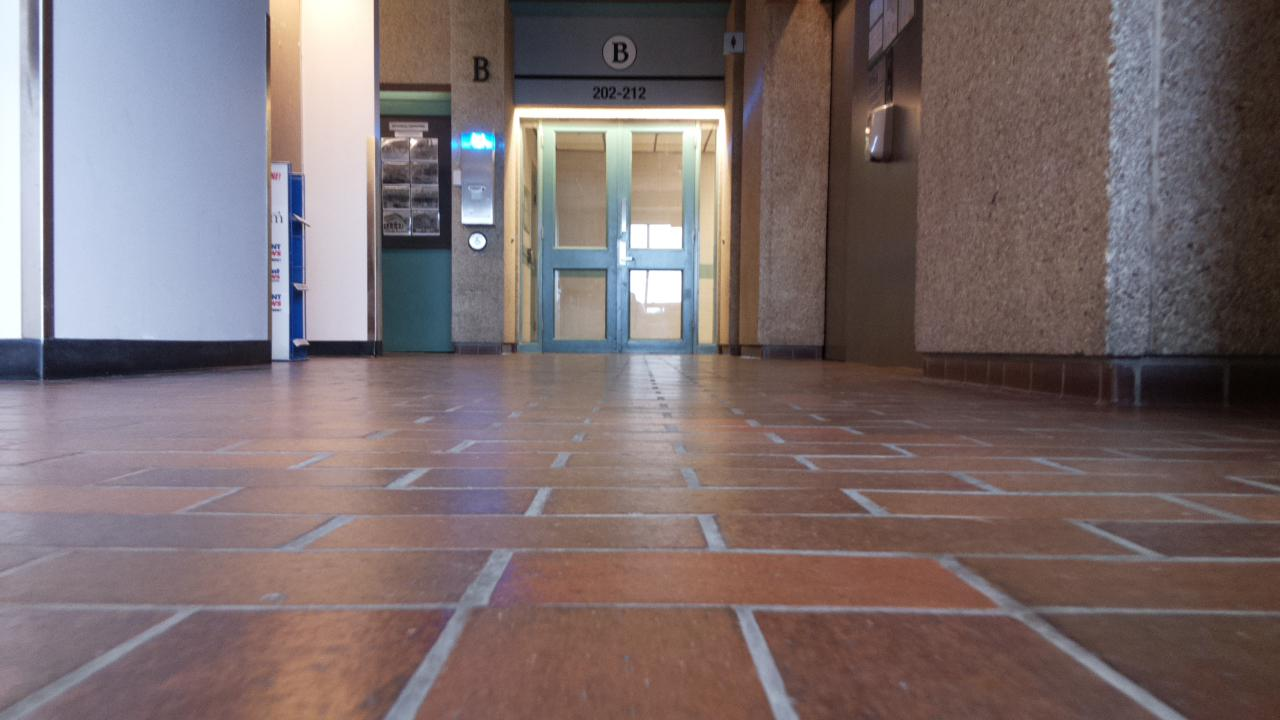door: (541, 119, 694, 353)
